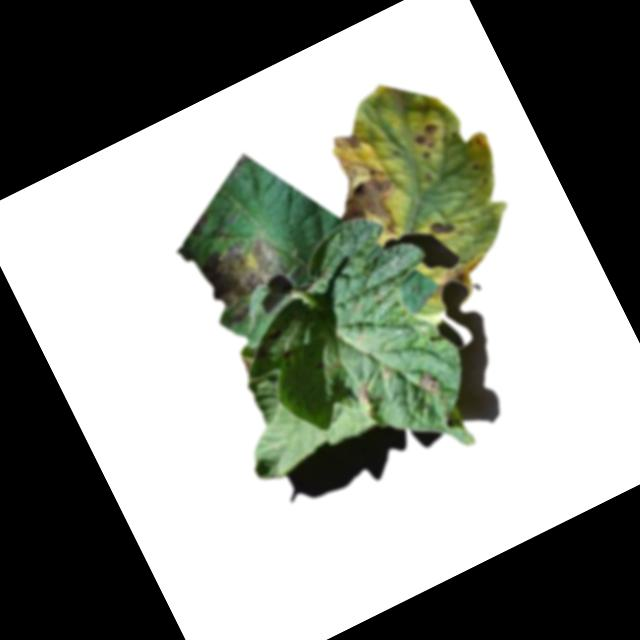Early_blight: (307, 122, 415, 251), (191, 224, 305, 328), (422, 254, 492, 305), (407, 119, 450, 162), (415, 366, 445, 400), (351, 382, 379, 414), (427, 214, 458, 241), (238, 357, 254, 376)
